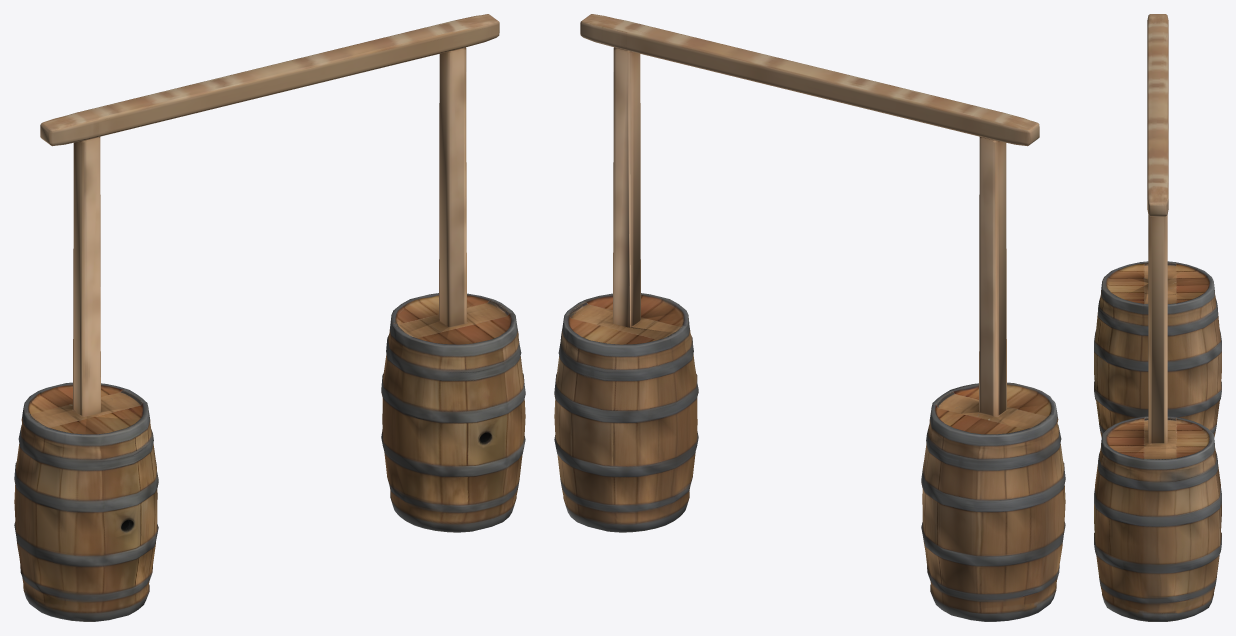
File: meshy_ai_barrel_arch_0122015938_texture.glb
The picture shows the model from 3 angles, left to right: view 1: azimuth 30°, elevation 25°; view 2: azimuth 150°, elevation 25°; view 3: azimuth 270°, elevation 25°; orthographic projection. The views are drawn at different scales.
Visible parts, largest first — view 1: Mesh_0.001; view 2: Mesh_0.001; view 3: Mesh_0.001.
Part boxes in pixels (x1=…): Mesh_0.001: x1=14, y1=14, x2=525, y2=621; Mesh_0.001: x1=554, y1=14, x2=1065, y2=621; Mesh_0.001: x1=1094, y1=14, x2=1221, y2=621.
Size of the model in its own units: 2.65 by 2.5 by 0.6946.
Materials: 1 (1 with a texture image).
